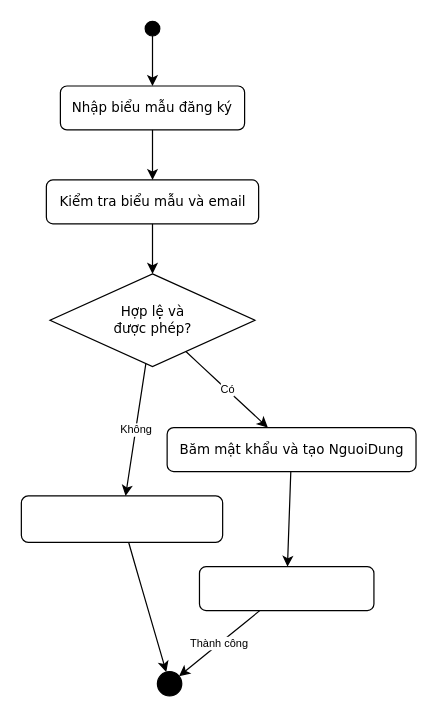
The diagram is 438 pixels wide and 717 high, and some of its shapes have lost their labels. The shapes that lost their labels are listed below. From the top down, each one's centre as x and y in pixels, then its label:
At [121,518]: "Thông báo lỗi Không báo lưu thành công".
At [286,588]: "Lưu phiên trên thiết bị".
